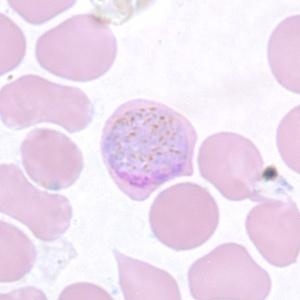Uninfected: (100, 98, 195, 197), (0, 74, 94, 133), (35, 14, 116, 82), (2, 164, 68, 241), (149, 182, 218, 252), (188, 242, 269, 300), (197, 132, 264, 200), (19, 125, 83, 192), (112, 248, 183, 299), (246, 198, 298, 265), (1, 214, 37, 281)
